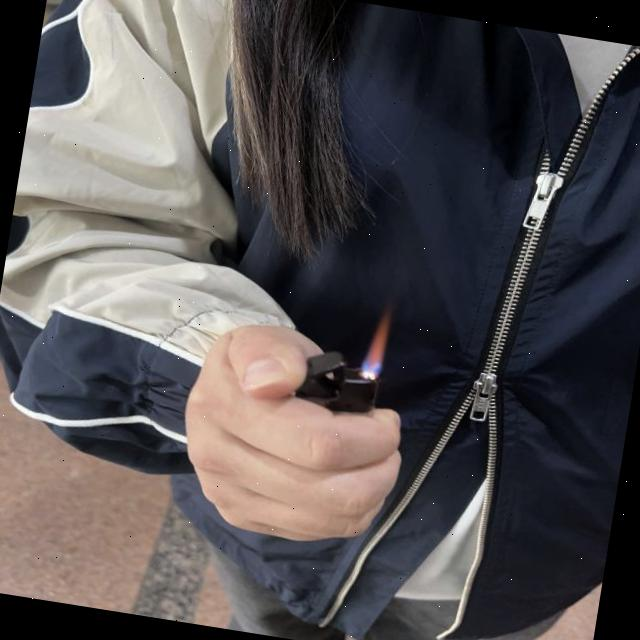fire: (359, 301, 396, 384)
